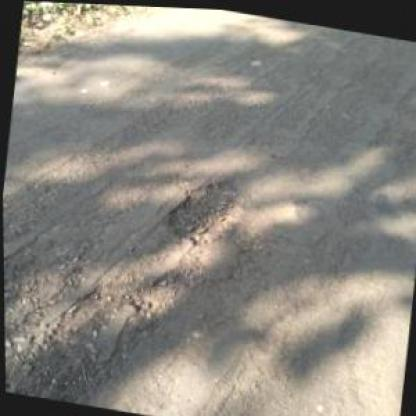pothole: (160, 168, 250, 252)
